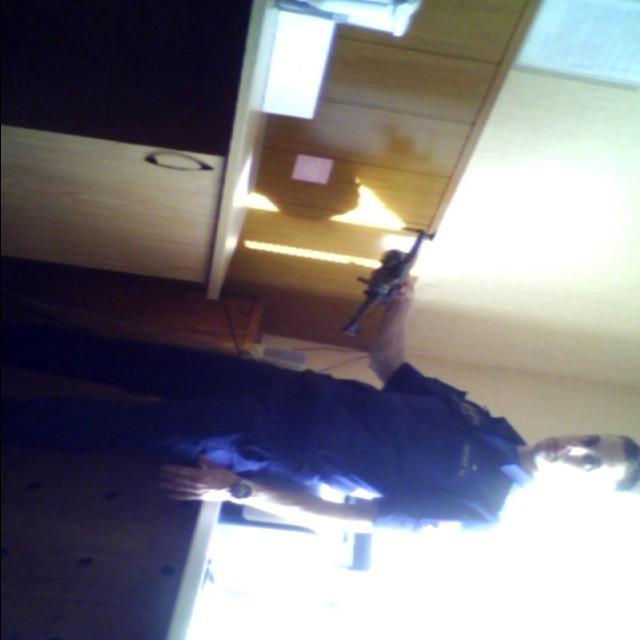drone: (333, 220, 451, 346)
